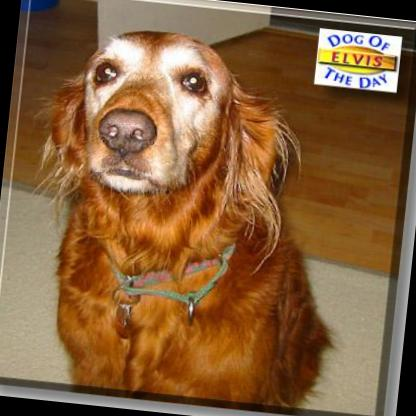Irish_setter: (3, 15, 362, 410)
